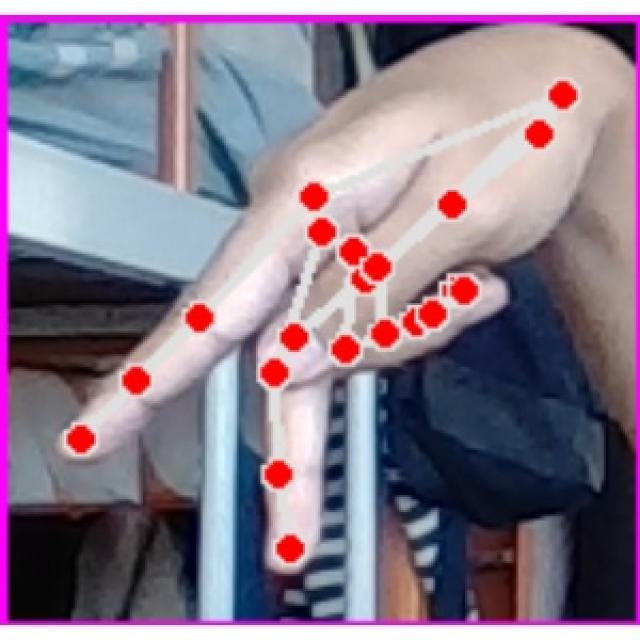P: (44, 25, 614, 591)
